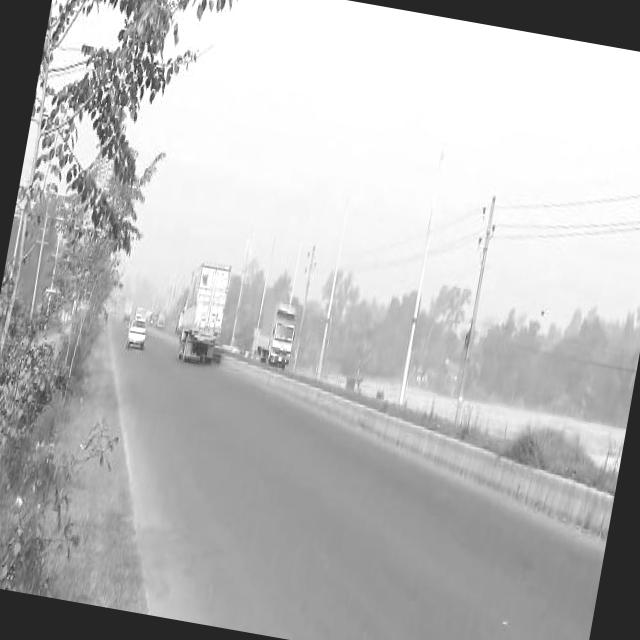car: (124, 316, 148, 350)
truck: (174, 260, 230, 358), (253, 296, 298, 362), (155, 306, 167, 325), (134, 302, 142, 314)
